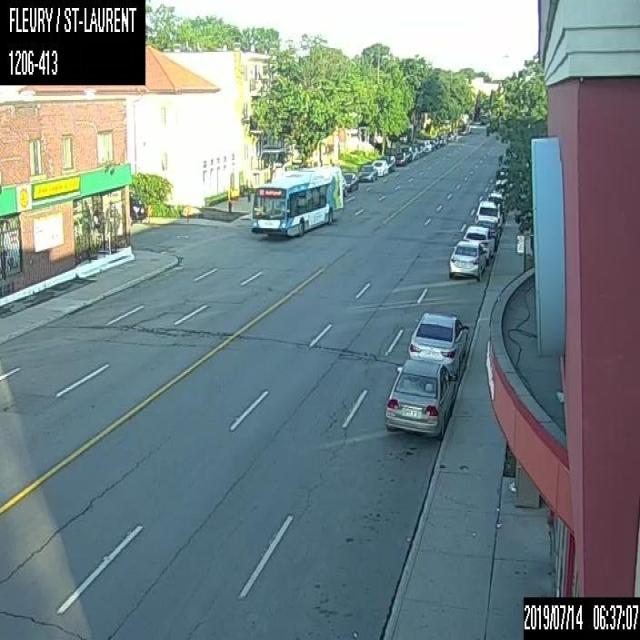bus: (250, 165, 342, 238)
vehicle: (384, 360, 457, 439), (406, 310, 469, 371), (448, 240, 487, 280), (462, 224, 494, 260), (474, 199, 502, 231), (129, 196, 145, 224), (357, 164, 377, 181), (370, 158, 388, 176), (342, 172, 358, 192), (382, 155, 395, 171), (400, 146, 412, 160), (394, 151, 406, 165), (411, 146, 418, 160), (416, 144, 424, 156)
